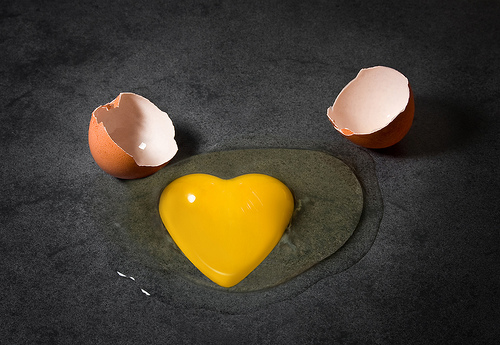egg: (101, 148, 385, 315), (86, 90, 178, 178), (326, 65, 417, 151)
